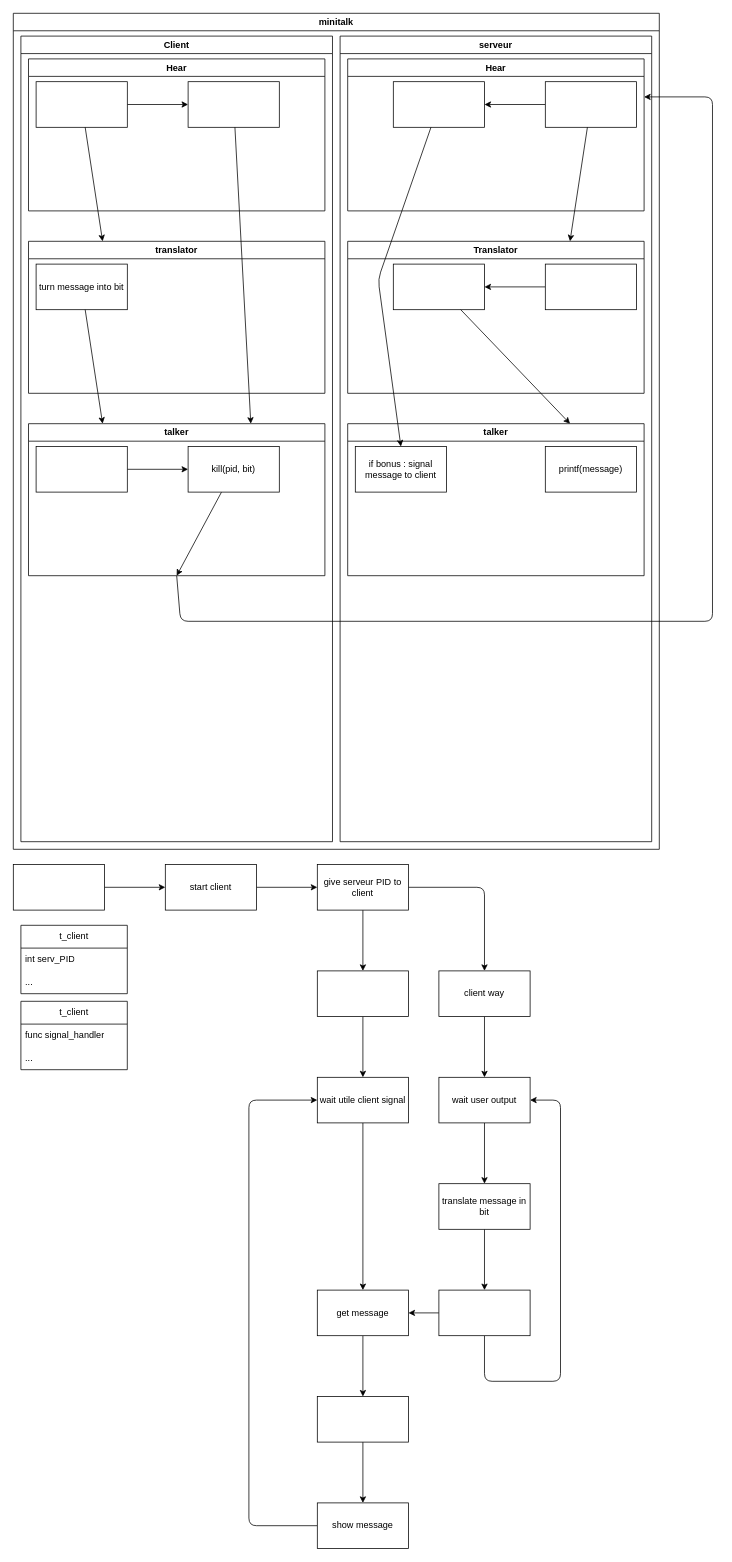
This 732x1562 diagram has some shape labels left out. The shapes that lost their labels are listed below. From the top down, each one's centre as x and y in pixels, then its label:
the point at 81,104: read argv
the point at 233,104: set serveur PID
the point at 438,104: if bonus : get client PID
the point at 590,104: geting sig (only handle SIGUSR1 and 2)
the point at 438,286: char int str
the point at 590,286: turn bits in char
the point at 81,469: SIFUSER1 = 0 SIGUSER2 = 1
the point at 58,887: start serveur
the point at 362,993: serveur way
the point at 484,1312: send message
the point at 362,1419: translate message
